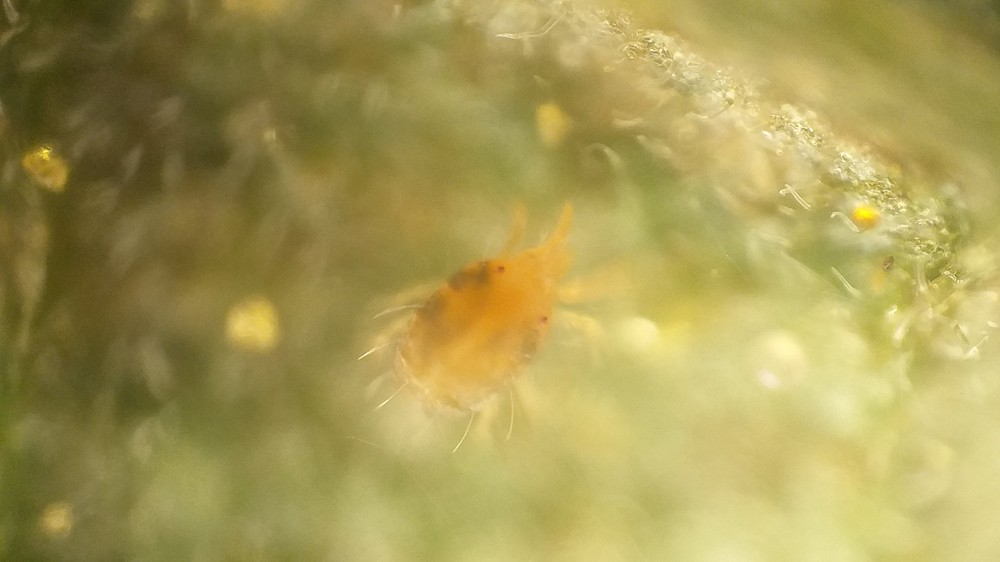Aracnido Rojo: (344, 170, 634, 450)
